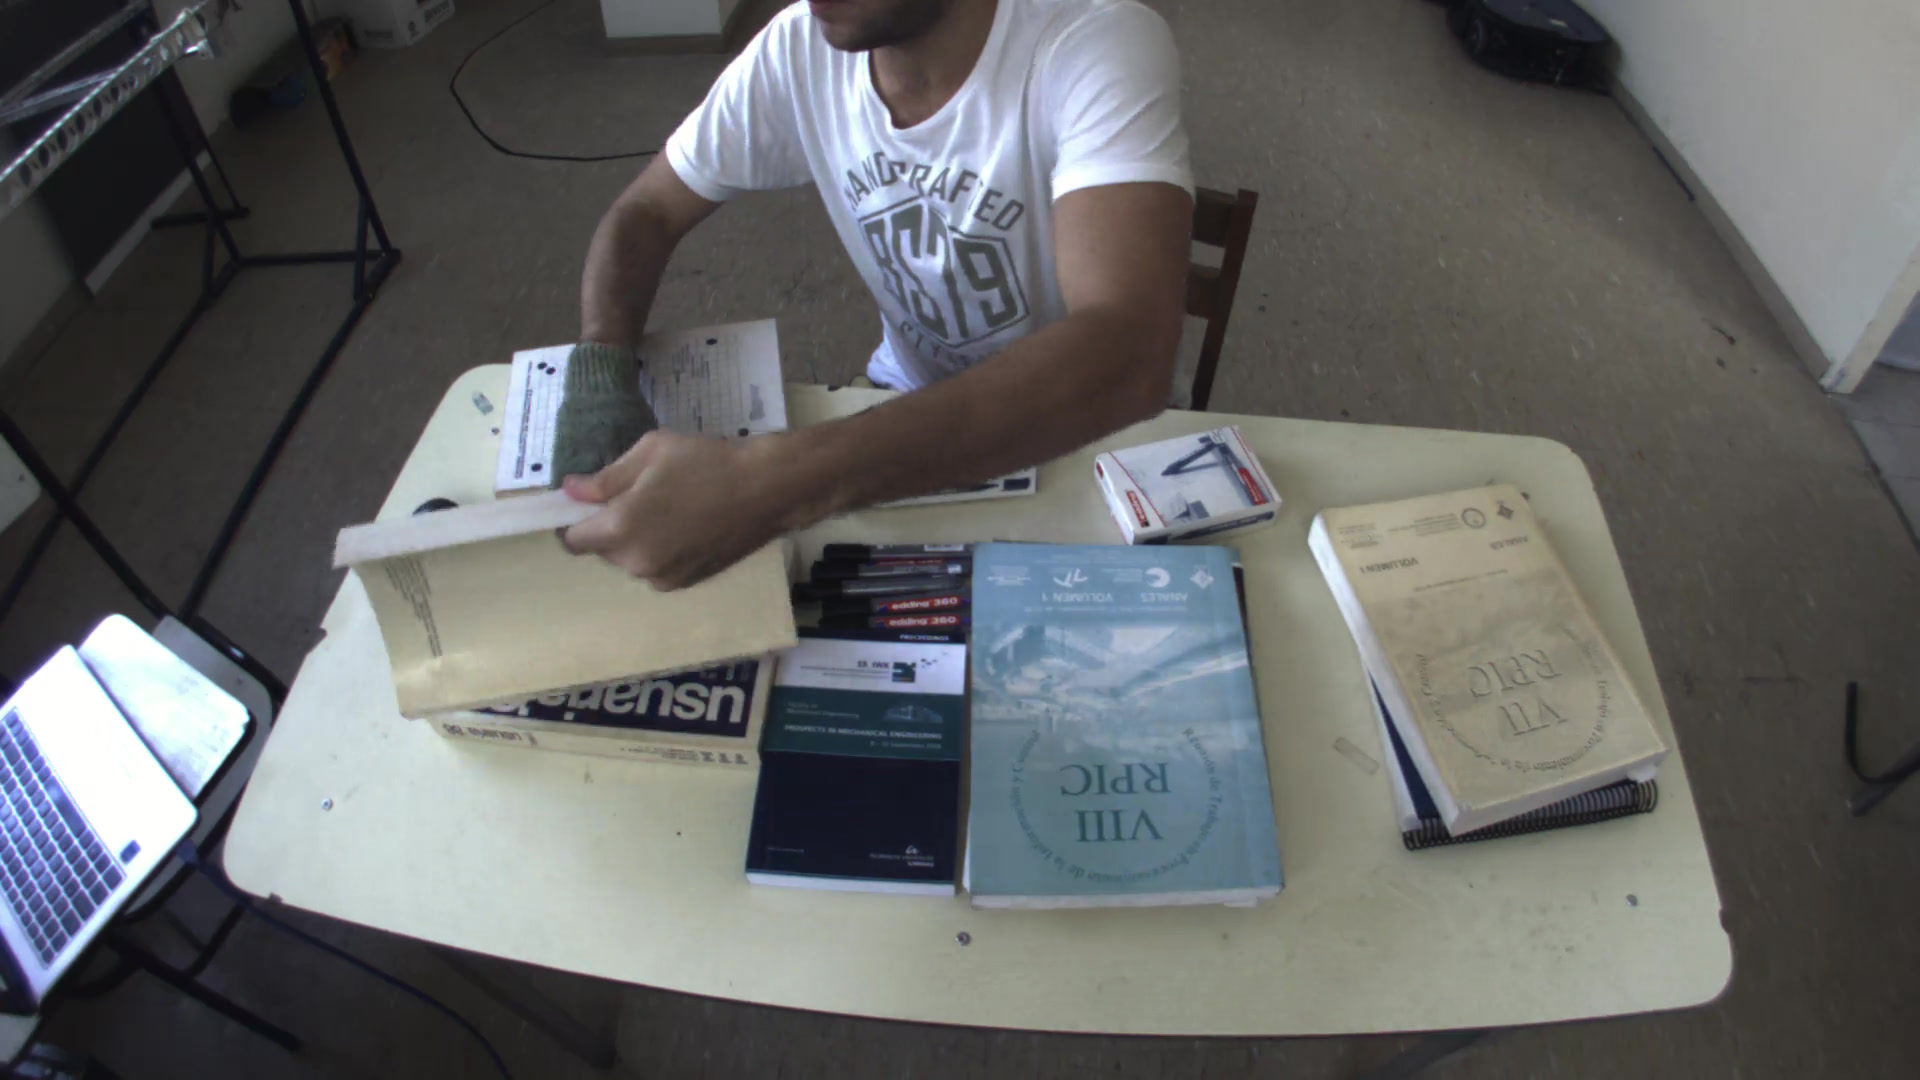hand: (558, 421, 764, 585)
